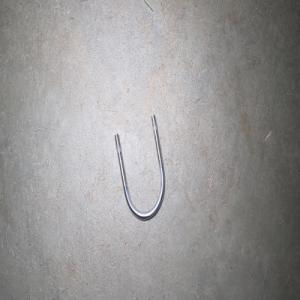ClampPart: (113, 114, 165, 222)
